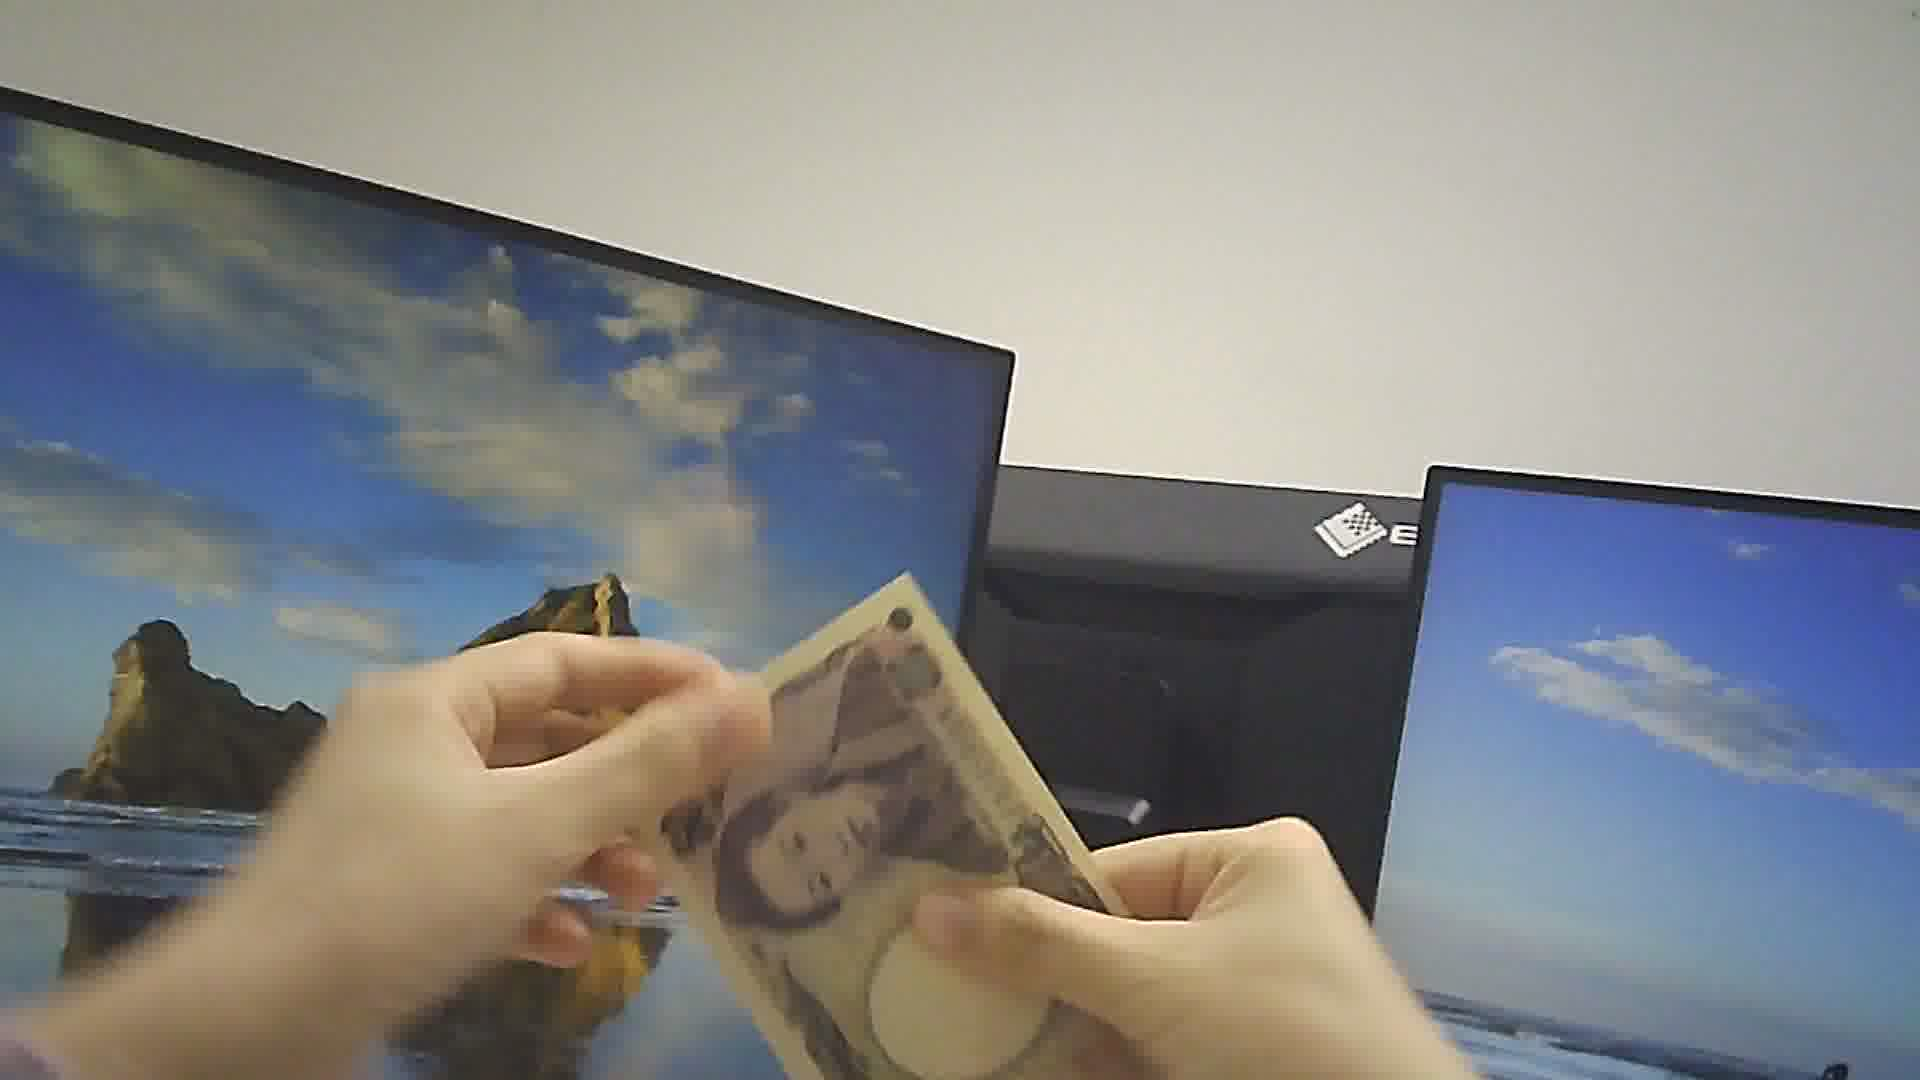5,000 Yen: (629, 603, 1134, 1079)
